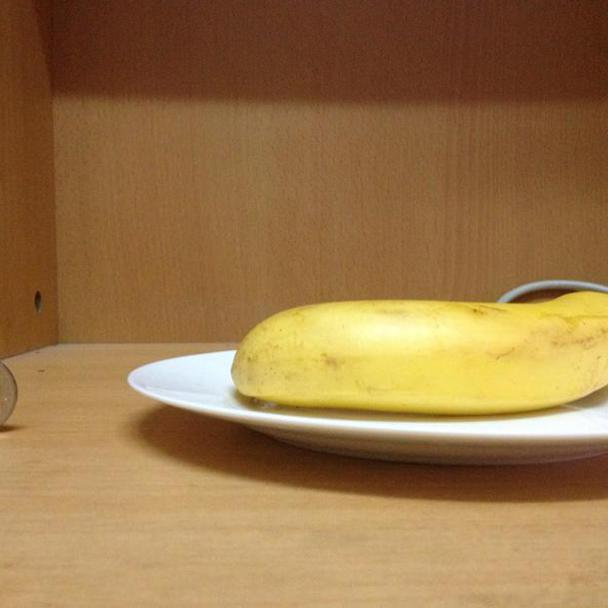banana: (233, 297, 608, 410)
